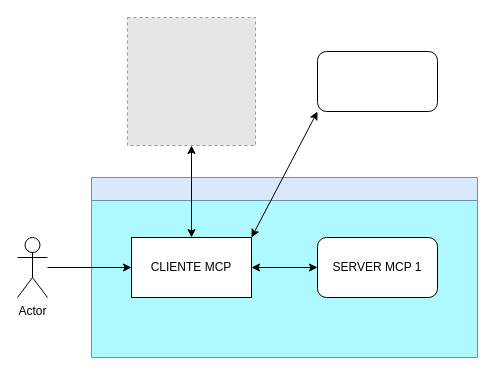
The diagram is 495 pixels wide and 375 high, and some of its shapes have lost their labels. Grey dashed boxes stand in for pictures. The box of each missing label's shape, as (x1, y1, x2, y2) in pixels:
Localhost: (90, 176, 478, 358)
SERVER MCP 2: (316, 50, 438, 112)
